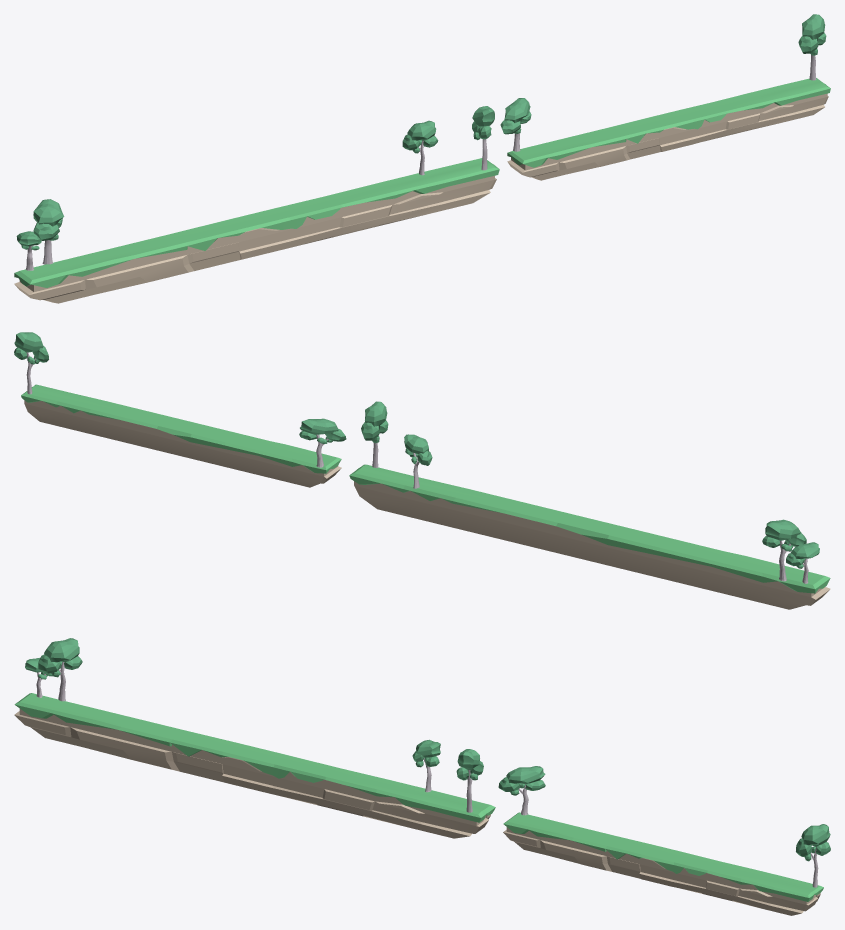
File: Level1.fbx
The picture shows the model from 3 angles, top to bottom: view 1: azimuth 30°, elevation 25°; view 2: azimuth 150°, elevation 25°; view 3: azimuth 330°, elevation 25°; orthographic projection.
Visible parts, largest first — view 1: polySurface548; view 2: polySurface548; view 3: polySurface548.
Part boxes in pixels (x1,y1,x2,y2): polySurface548: (14, 14, 830, 303); polySurface548: (14, 332, 830, 609); polySurface548: (14, 638, 830, 915).
Size of the model in its own units: 225 by 24.83 by 13.36.
